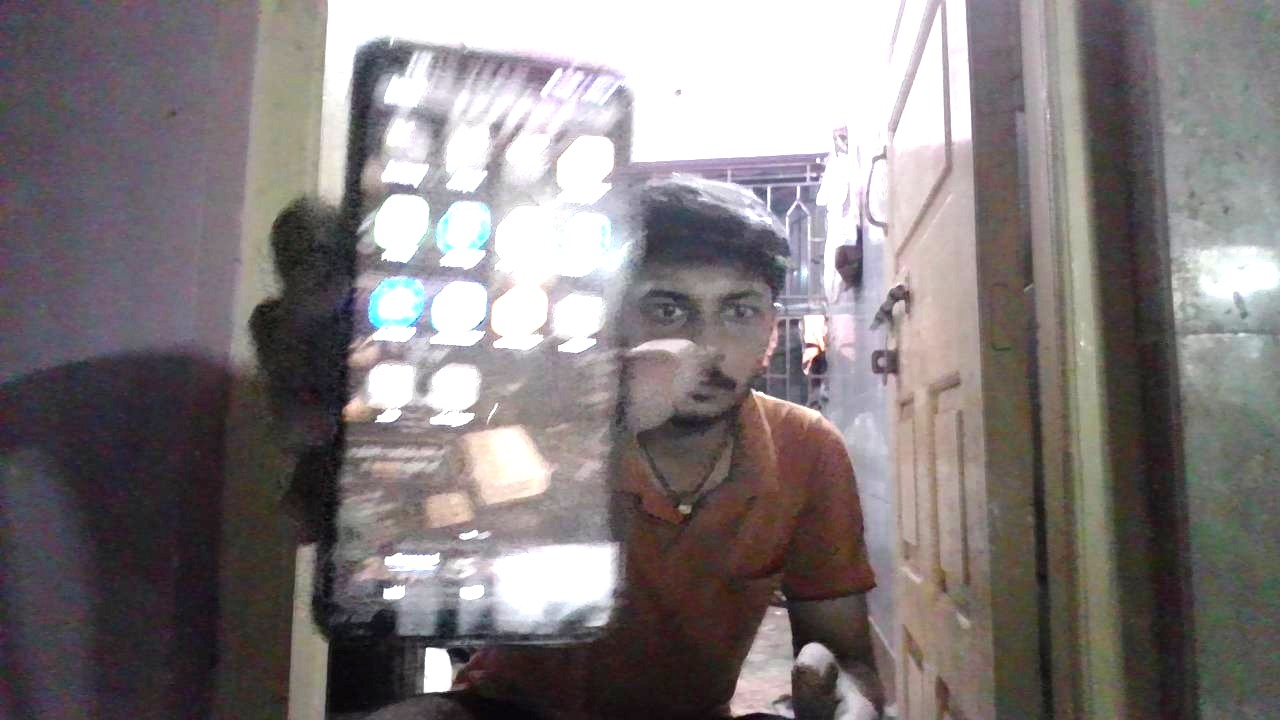red_box: (730, 413, 851, 562), (822, 486, 861, 547)
